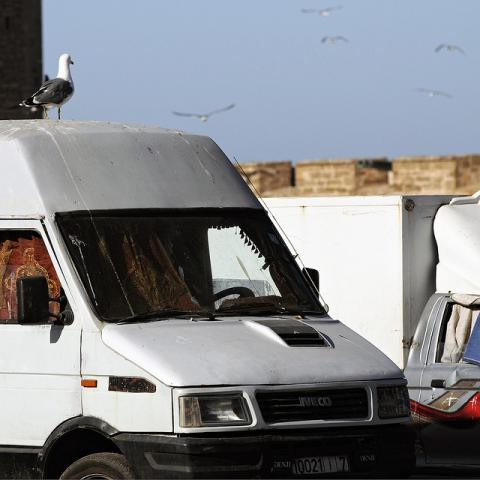car: (402, 290, 479, 467)
truck: (0, 116, 422, 474), (255, 196, 469, 371)
